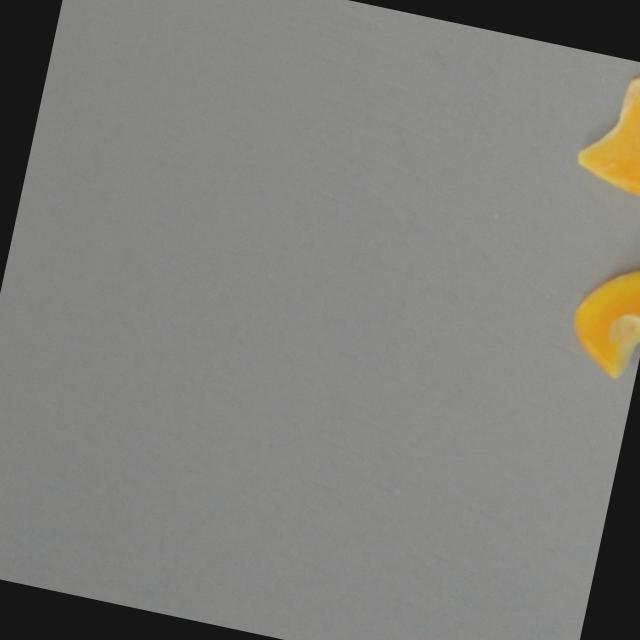no_canjicado: (562, 251, 640, 384), (572, 61, 640, 196)
